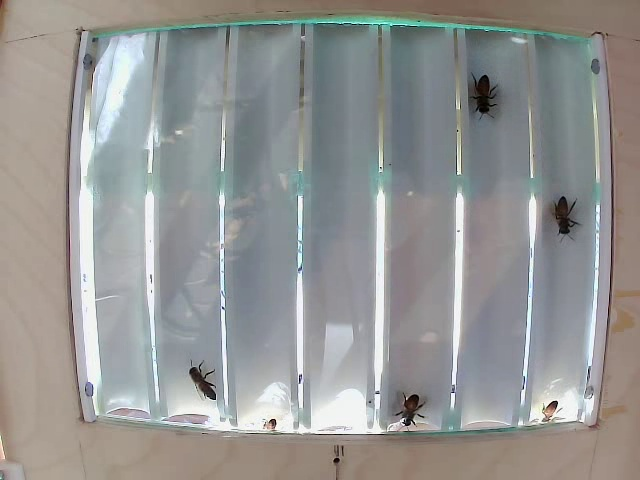bee: (386, 378, 427, 431), (549, 189, 590, 238), (472, 70, 504, 128), (182, 369, 225, 405)
